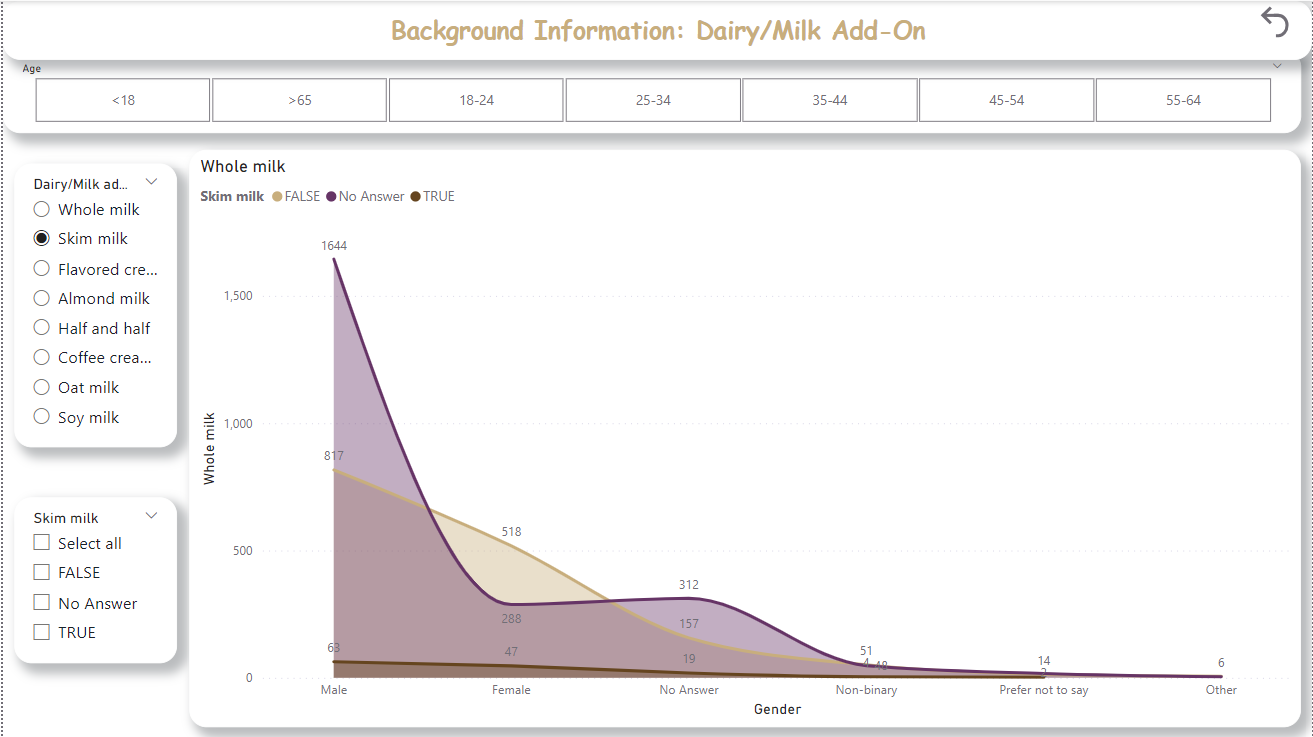

The dashboard page shown, as its layout file describes it:
{"tool":"powerbi","page":{"name":"Dairy/Milk Add On","canvas":[1280,720],"ordinal":5},"visuals":[{"type":"slicer","fields":{"Values":["Coffee.Age"]},"box":[0,47.8,1269.5,81.8],"z":0},{"type":"slicer","fields":{"Values":["Parameter.Parameter"]},"box":[11,158.9,158.9,277.5],"z":1000},{"type":"slicer","fields":{"Values":["Coffee.Skim milk"]},"box":[11,485.3,158.9,162.6],"z":2000},{"type":"areaChart","title":"Whole milk","fields":{"Series":["Coffee.Skim milk"],"Category":["Coffee.Gender"],"Y":["CountNonNull(Coffee.Whole milk)"]},"box":[182,145,1087.5,564.6],"z":3000},{"type":"textbox","box":[0,0,1279.9,57.5],"z":4000},{"type":"actionButton","box":[1223.3,0,46.3,40.5],"z":5000}]}

Visuals, with their boxes in screenshot pixels (x1, y1, x2, y2), scaled from the page's 1280x720 canvas onto the 1313x737 screenshot:
slicer - Coffee.Age: <bbox>0, 49, 1302, 133</bbox>
slicer - Parameter.Parameter: <bbox>11, 163, 174, 447</bbox>
slicer - Coffee.Skim milk: <bbox>11, 497, 174, 663</bbox>
"Whole milk" areaChart: <bbox>187, 148, 1302, 726</bbox>
textbox: <bbox>0, 0, 1312, 59</bbox>
actionButton: <bbox>1255, 0, 1302, 41</bbox>
